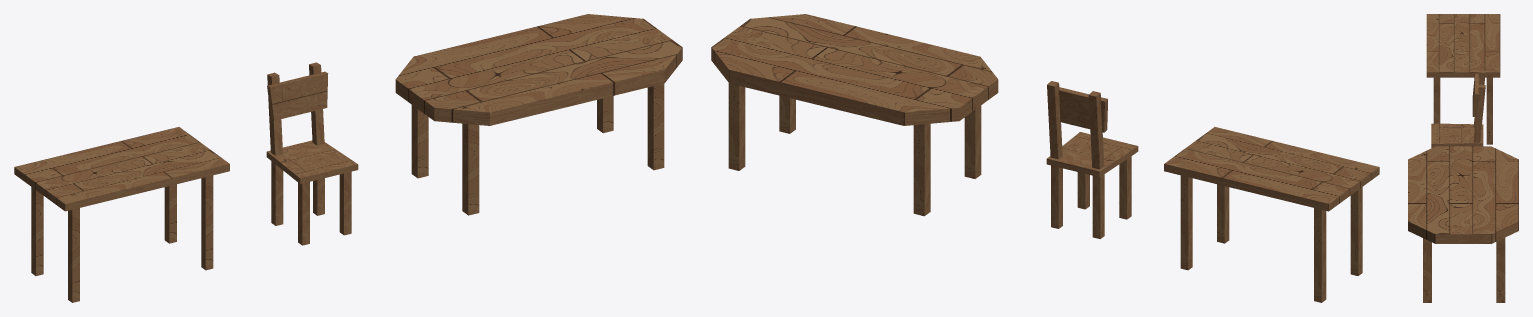
File: Table_Chair.fbx
3 views of the same model, side by side, from view 1: azimuth 30°, elevation 25°; view 2: azimuth 150°, elevation 25°; view 3: azimuth 270°, elevation 25° (orthographic). The views are drawn at different scales.
Visible parts, largest first — view 1: Table_2, Table_1, Chair; view 2: Table_2, Table_1, Chair; view 3: Table_2, Table_1, Chair.
Part boxes in pixels (x1,y1,x2,y2): Table_2: (395,14,682,215); Table_1: (14,127,229,302); Chair: (266,62,358,245); Table_2: (711,14,998,216); Table_1: (1164,127,1379,302); Chair: (1046,81,1138,238); Table_2: (1408,146,1518,302); Table_1: (1426,14,1500,144); Chair: (1431,70,1485,147).
Bounding box in the file's own units: 4.78 × 1.09 × 1.01.
Materials: 1 (1 with a texture image).
